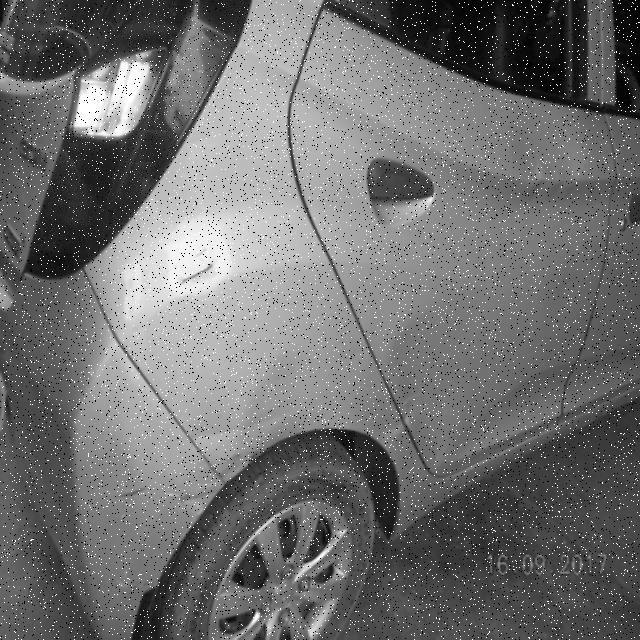doorouter-dent: (310, 64, 591, 459)
quaterpanel-dent: (125, 137, 324, 521)
rear-bumper-dent: (1, 390, 220, 638)
